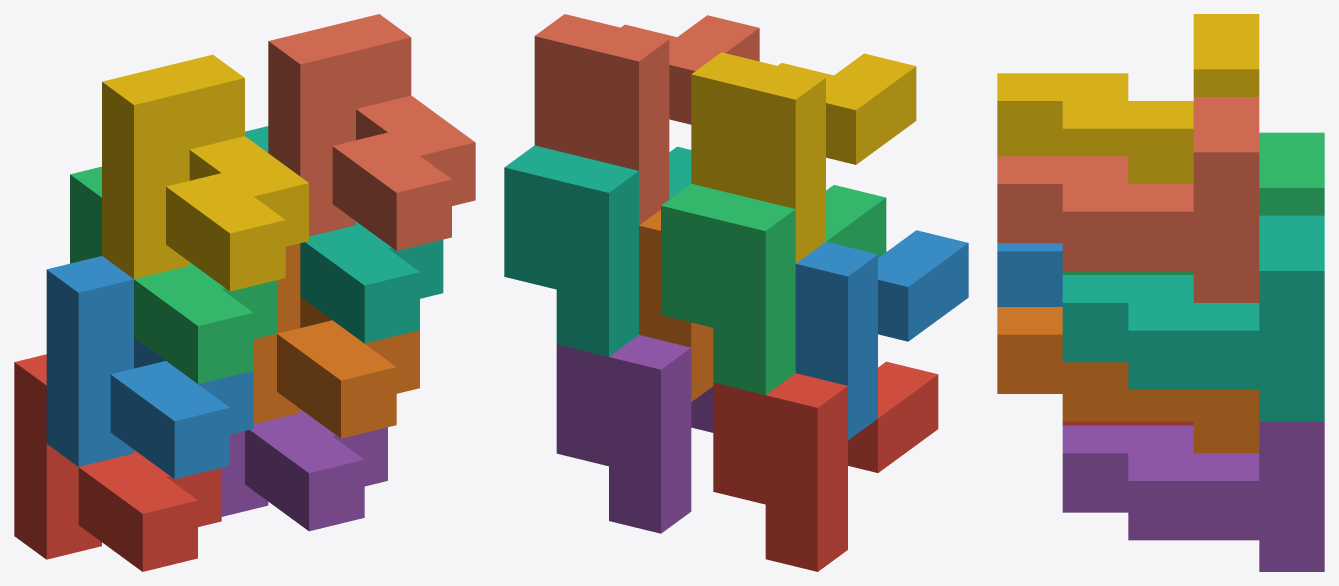
File: tiling.obj
3 views of the same model, side by side, from view 1: azimuth 30°, elevation 25°; view 2: azimuth 150°, elevation 25°; view 3: azimuth 270°, elevation 25° (orthographic). The views are drawn at different scales.
Visible parts, largest first — view 1: copy_1_domain_4, copy_1_domain_8, copy_1_domain_2, copy_1_domain_1, copy_1_domain_6, copy_1_domain_3, copy_1_domain_5, copy_1_domain_7; view 2: copy_1_domain_4, copy_1_domain_1, copy_1_domain_3, copy_1_domain_8, copy_1_domain_7, copy_1_domain_5, copy_1_domain_2, copy_1_domain_6; view 3: copy_1_domain_8, copy_1_domain_7, copy_1_domain_5, copy_1_domain_4, copy_1_domain_6, copy_1_domain_3, copy_1_domain_2, copy_1_domain_1.
Part boxes in pixels (<box>): copy_1_domain_4: <box>102,54,308,291</box>; copy_1_domain_8: <box>268,14,475,250</box>; copy_1_domain_2: <box>46,256,253,479</box>; copy_1_domain_1: <box>14,354,221,571</box>; copy_1_domain_6: <box>253,243,419,438</box>; copy_1_domain_3: <box>70,166,276,384</box>; copy_1_domain_5: <box>221,409,387,531</box>; copy_1_domain_7: <box>245,126,443,343</box>; copy_1_domain_4: <box>691,52,916,263</box>; copy_1_domain_1: <box>713,361,938,571</box>; copy_1_domain_3: <box>661,183,886,394</box>; copy_1_domain_8: <box>534,14,759,225</box>; copy_1_domain_7: <box>504,145,691,356</box>; copy_1_domain_5: <box>556,335,713,533</box>; copy_1_domain_2: <box>795,230,968,440</box>; copy_1_domain_6: <box>639,210,713,401</box>; copy_1_domain_8: <box>997,97,1259,302</box>; copy_1_domain_7: <box>1062,215,1324,421</box>; copy_1_domain_5: <box>1062,421,1324,571</box>; copy_1_domain_4: <box>997,14,1259,183</box>; copy_1_domain_6: <box>997,307,1259,453</box>; copy_1_domain_3: <box>1062,132,1324,274</box>; copy_1_domain_2: <box>997,243,1062,306</box>; copy_1_domain_1: <box>1062,421,1193,425</box>.
Bounding box in the file's own units: 6 × 8 × 5.
